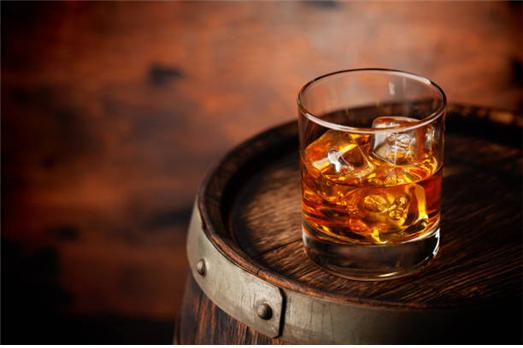alcohol: (298, 69, 447, 281)
